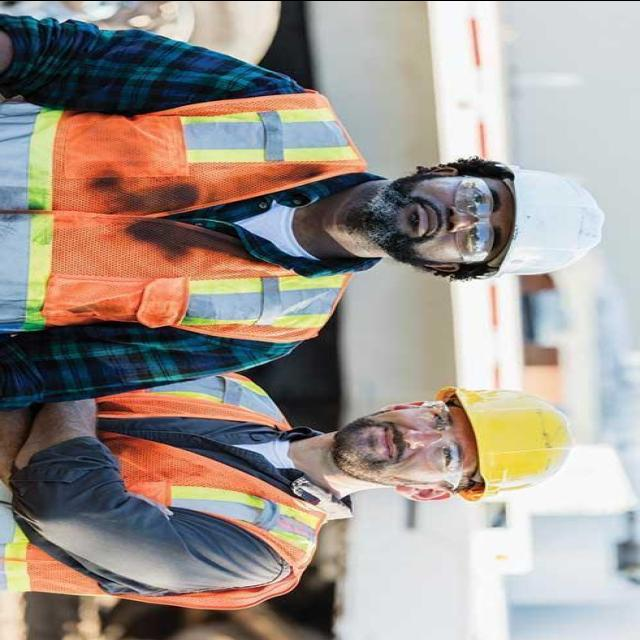helmet: (479, 154, 615, 286), (454, 379, 588, 507)
jacket: (0, 82, 371, 334), (8, 365, 334, 610)
